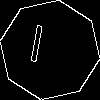I: (25, 25, 47, 72)
